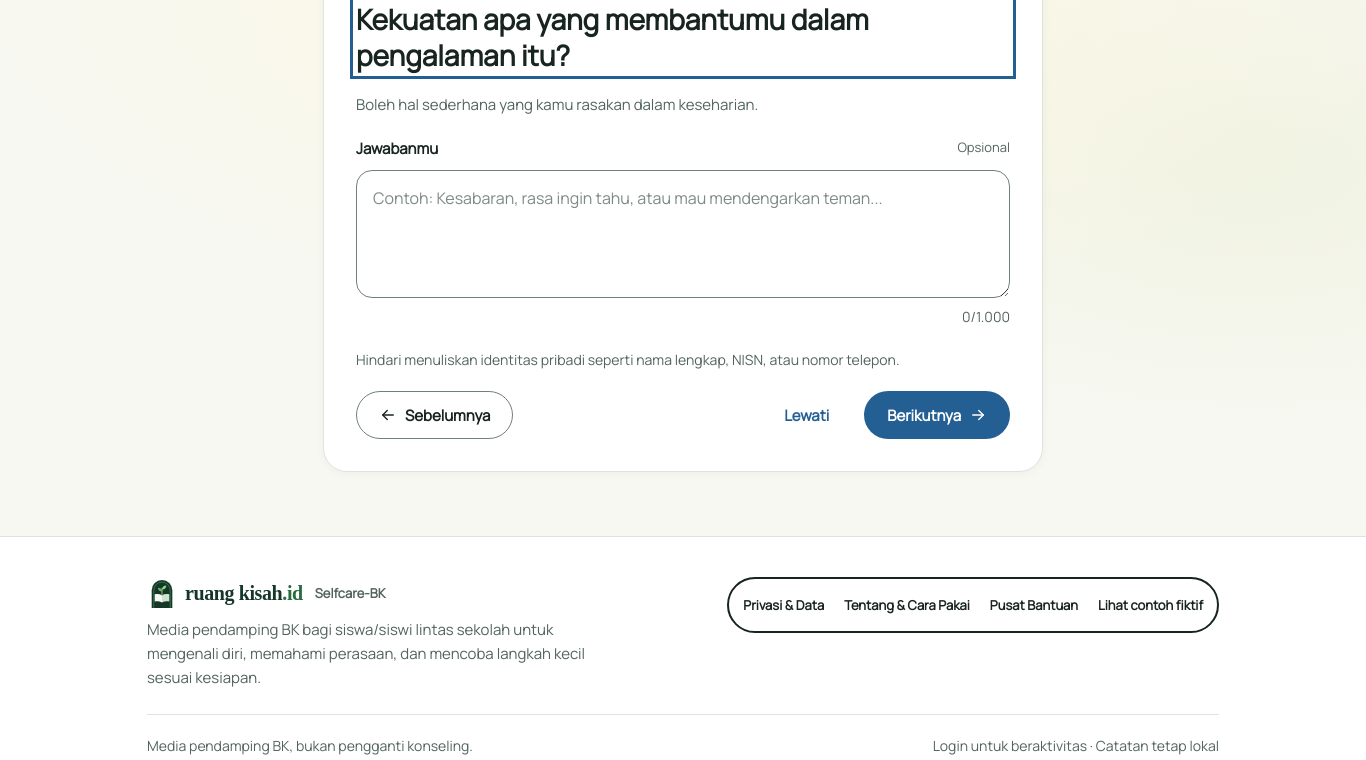
RUANGKISAH.ID integration flows › menjalankan Kenali Diriku tanpa simpan dan membersihkan draf
Earlier steps of the test are not shown.
(page scrolled)
Click the button "Lewati".
click(807, 415)  # box [761,391,852,439]
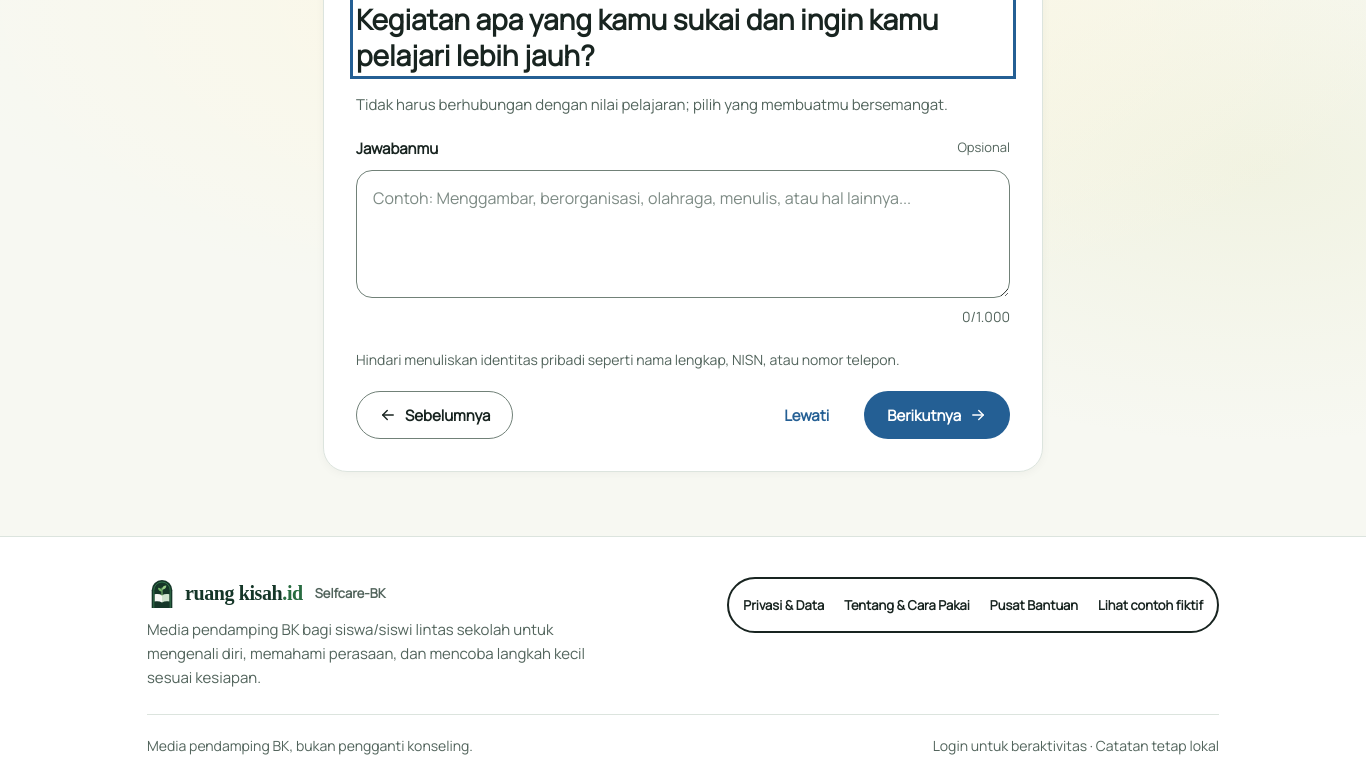
Click the button "Lewati".
click(807, 415)  # box [761,391,852,439]
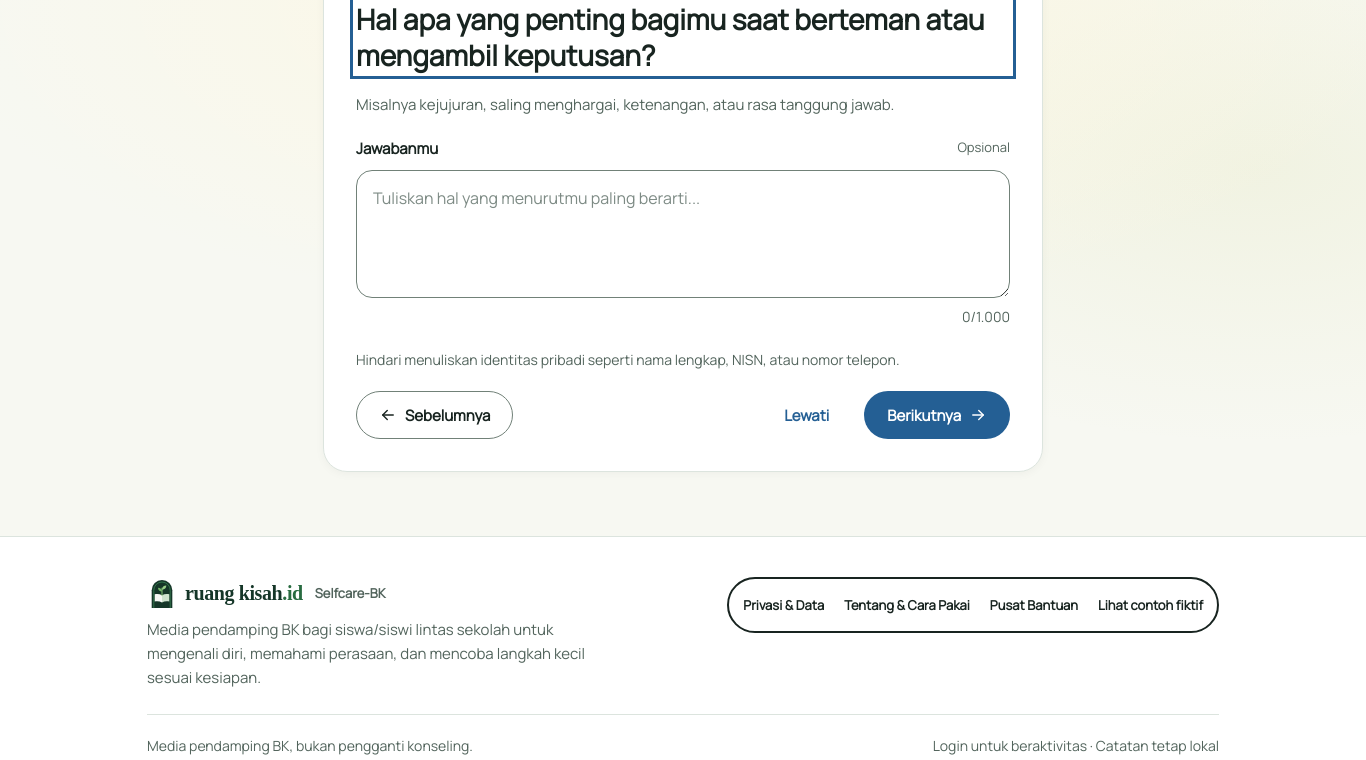
Click the button "Lewati".
click(807, 415)  # box [761,391,852,439]
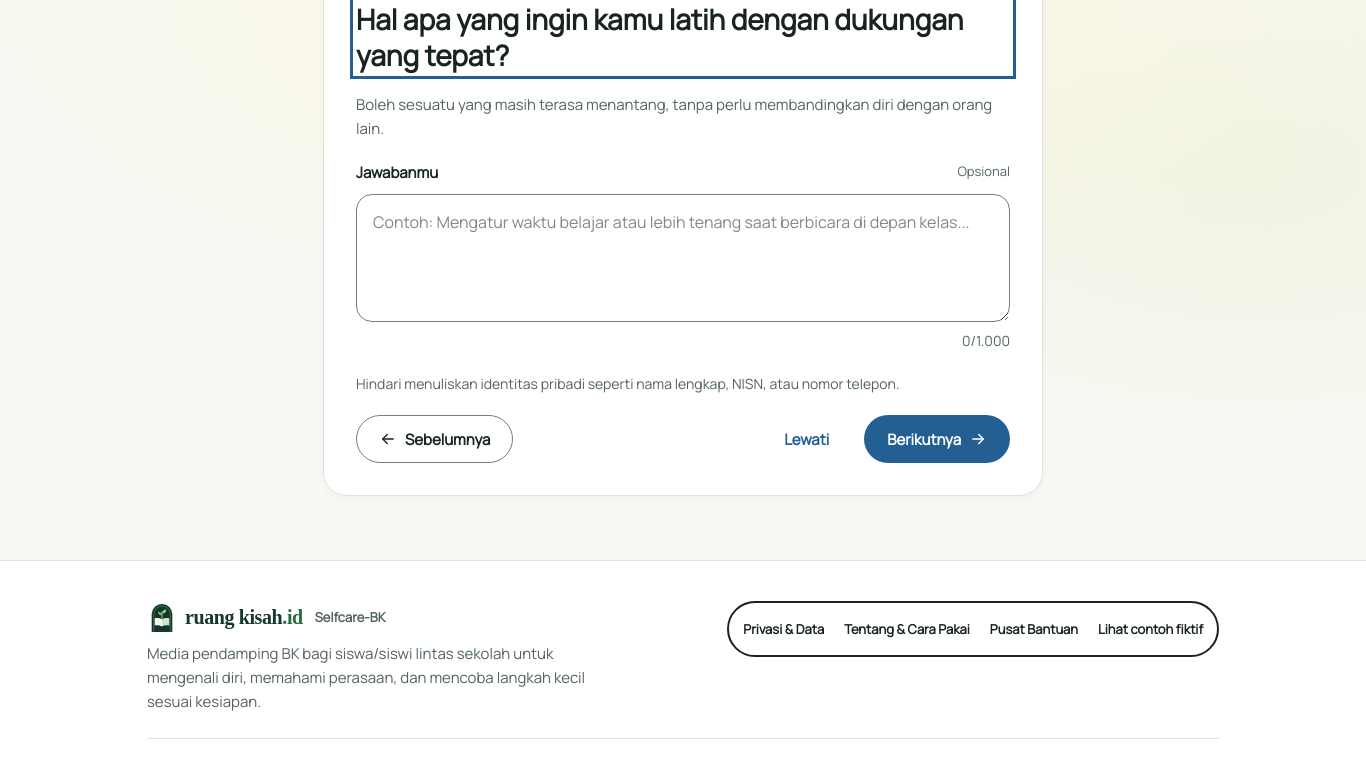
Click the button "Lewati".
click(807, 439)  # box [761,415,852,463]
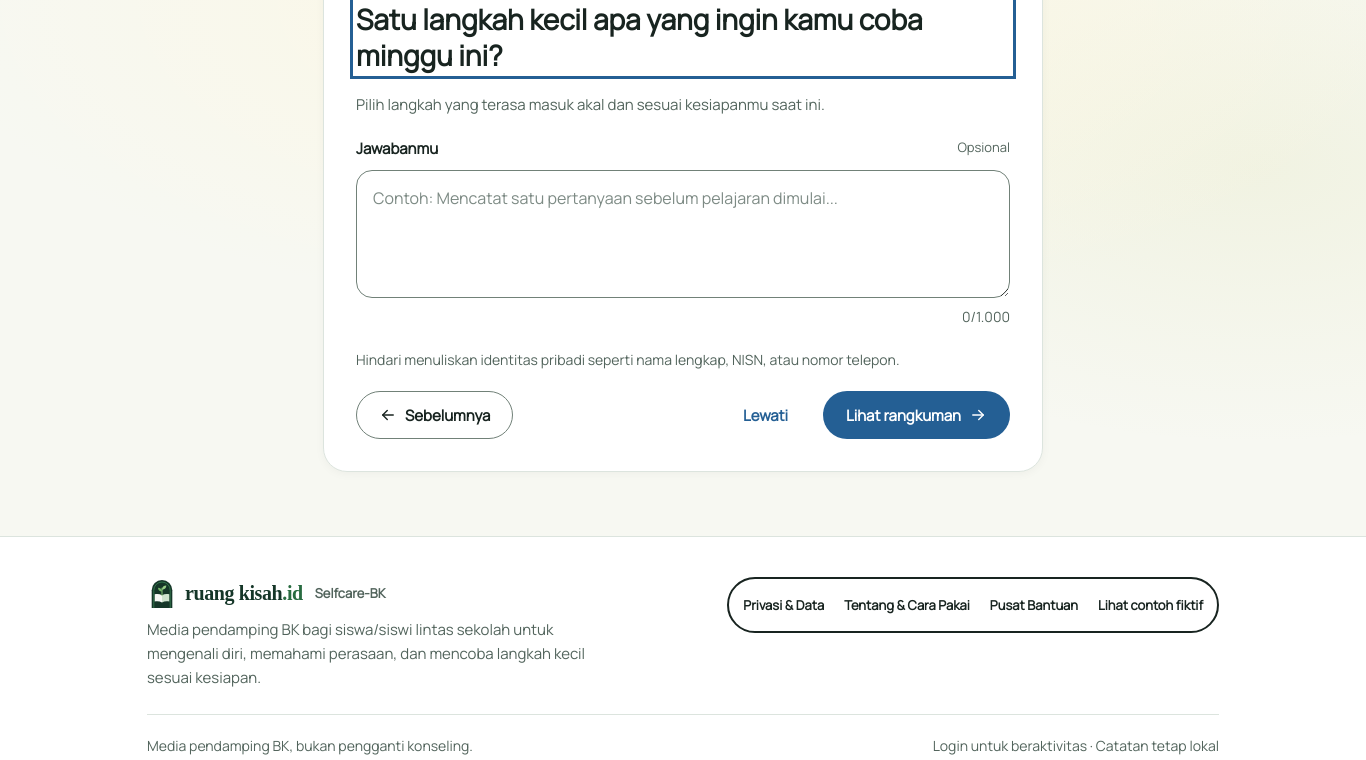
Click the button "Lewati".
click(766, 415)  # box [720,391,811,439]
(page scrolled)
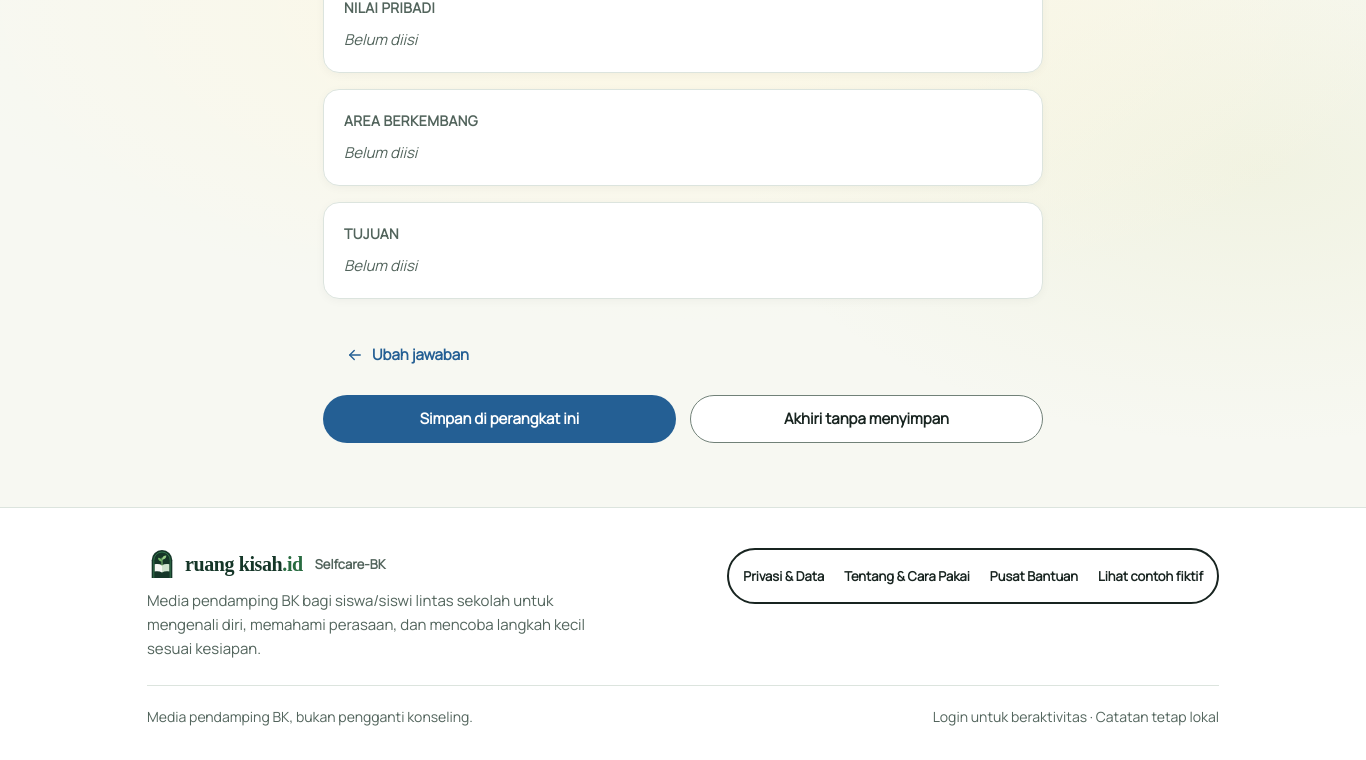
Expected: the text "Belum diisi" is shown 5 times
Click the button "Akhiri tanpa menyimpan".
click(866, 419)  # box [690,395,1043,443]
(page scrolled)
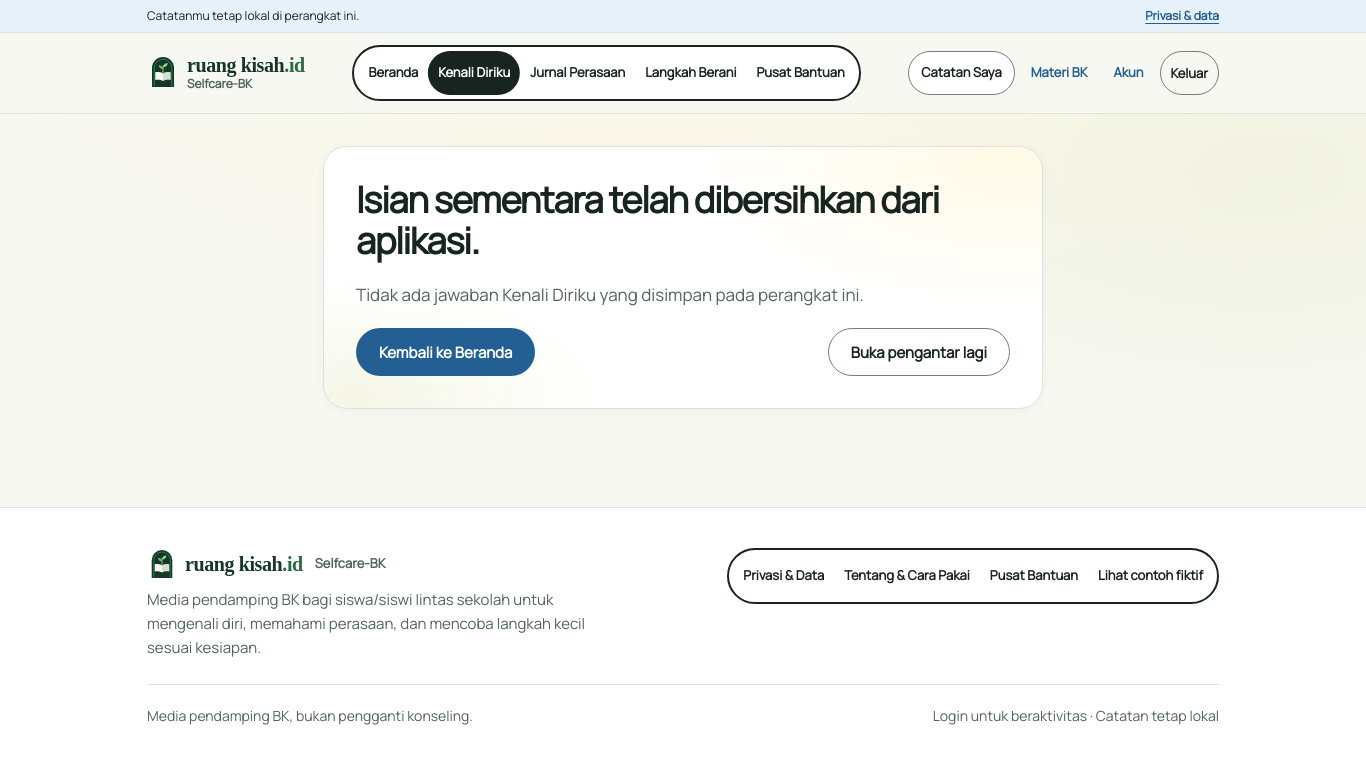
Expected: the heading "Isian sementara telah dibersihkan dari aplikasi." is shown, [356,178,1010,261]
